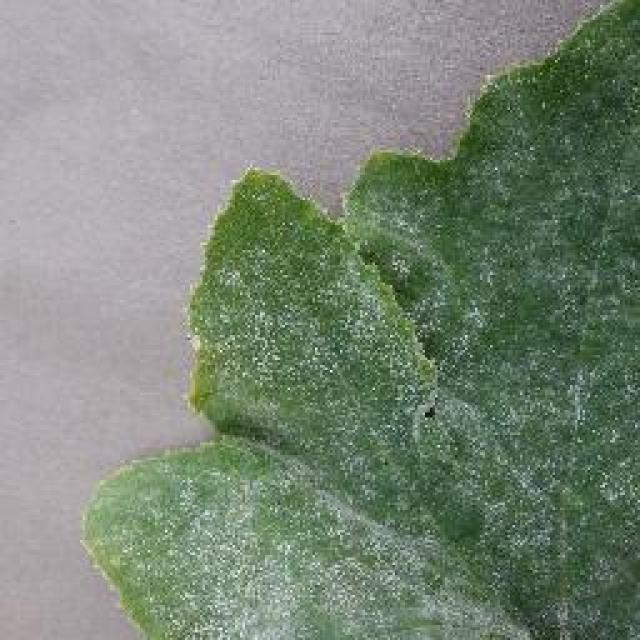Squ_Powdery_mildew: (219, 172, 619, 610)
